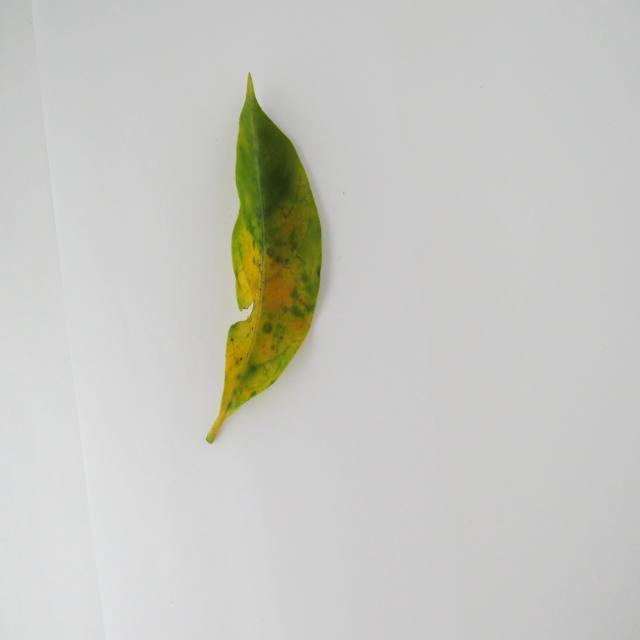DeficienciaNutricional-Fosforo: (206, 75, 321, 443)
